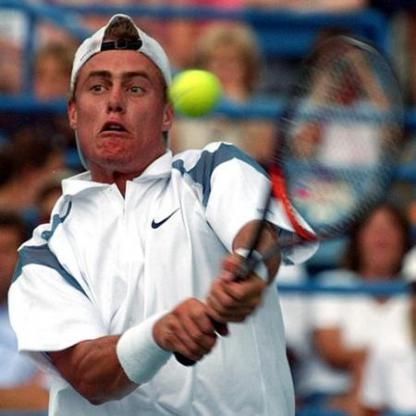face: (74, 24, 168, 170), (362, 204, 405, 272)
